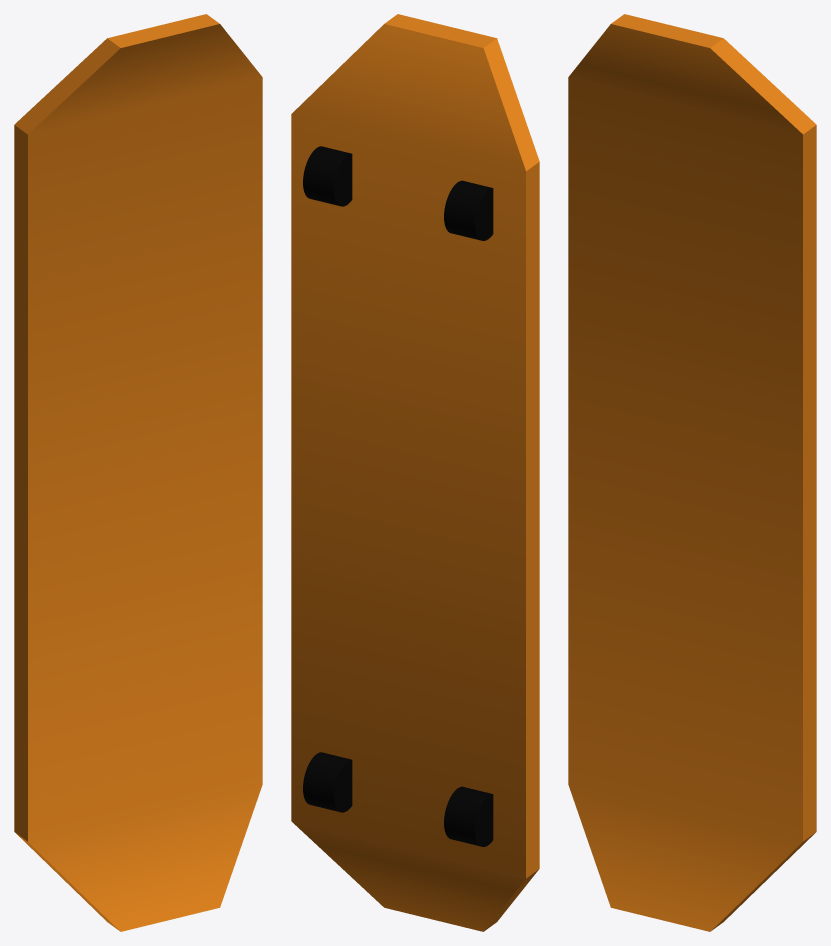
File: skateboard.fbx
3 renders of one model, left to right at view 1: azimuth 30°, elevation 25°; view 2: azimuth 150°, elevation 25°; view 3: azimuth 330°, elevation 25°, orthographic.
Parts seen in each view (by area): view 1: Cube; view 2: Cube; view 3: Cube.
Part boxes in pixels (x1,y1,x2,y2): Cube: (14, 14, 262, 931); Cube: (291, 14, 539, 931); Cube: (568, 14, 816, 931).
Bounding box in the file's own units: 50 × 180 × 21.07.
